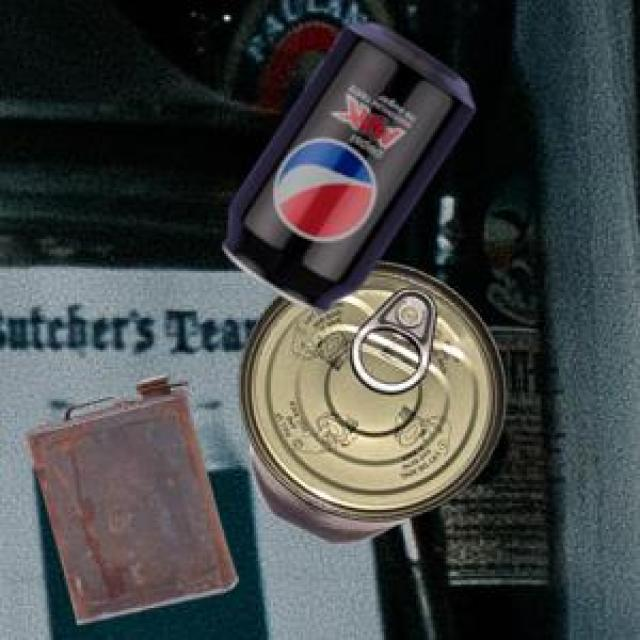logam: (236, 259, 502, 541), (221, 20, 473, 308), (22, 372, 234, 622)
